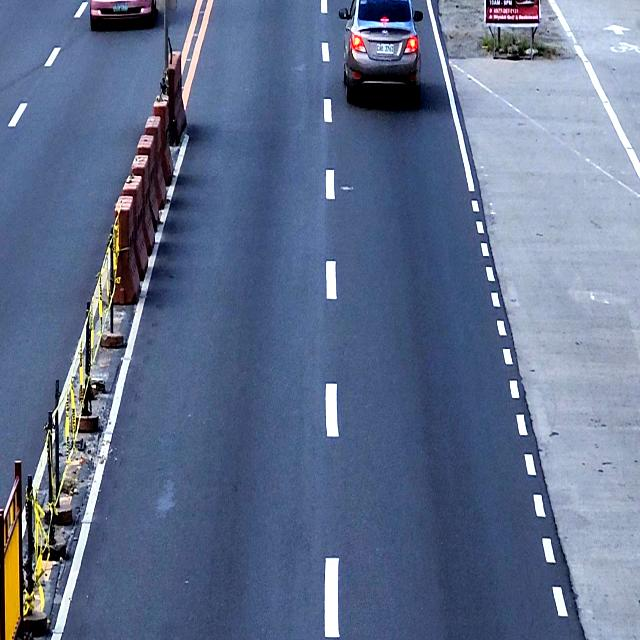Car: (338, 0, 424, 103), (89, 0, 157, 30)
License-Plate: (376, 43, 394, 55), (112, 4, 129, 13)
